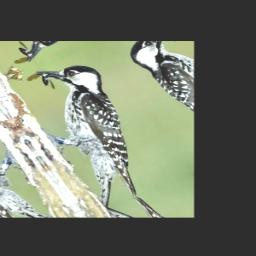Woodpecker: (7, 52, 176, 210)
